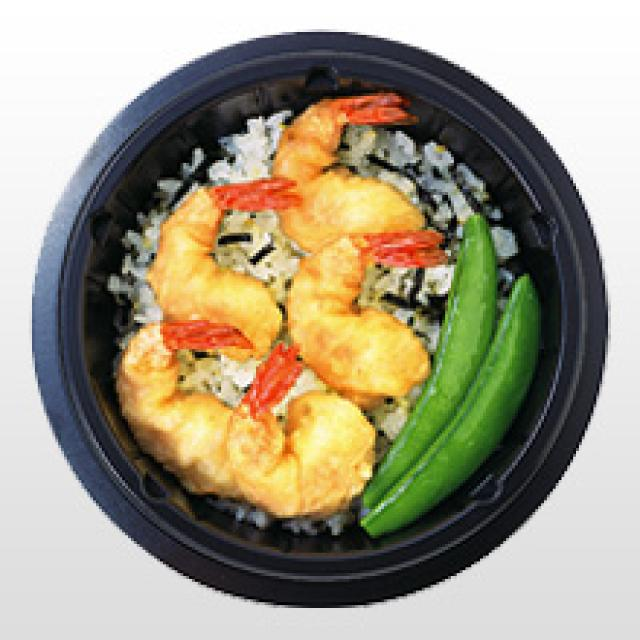熟制海鲜: (17, 23, 611, 608)
